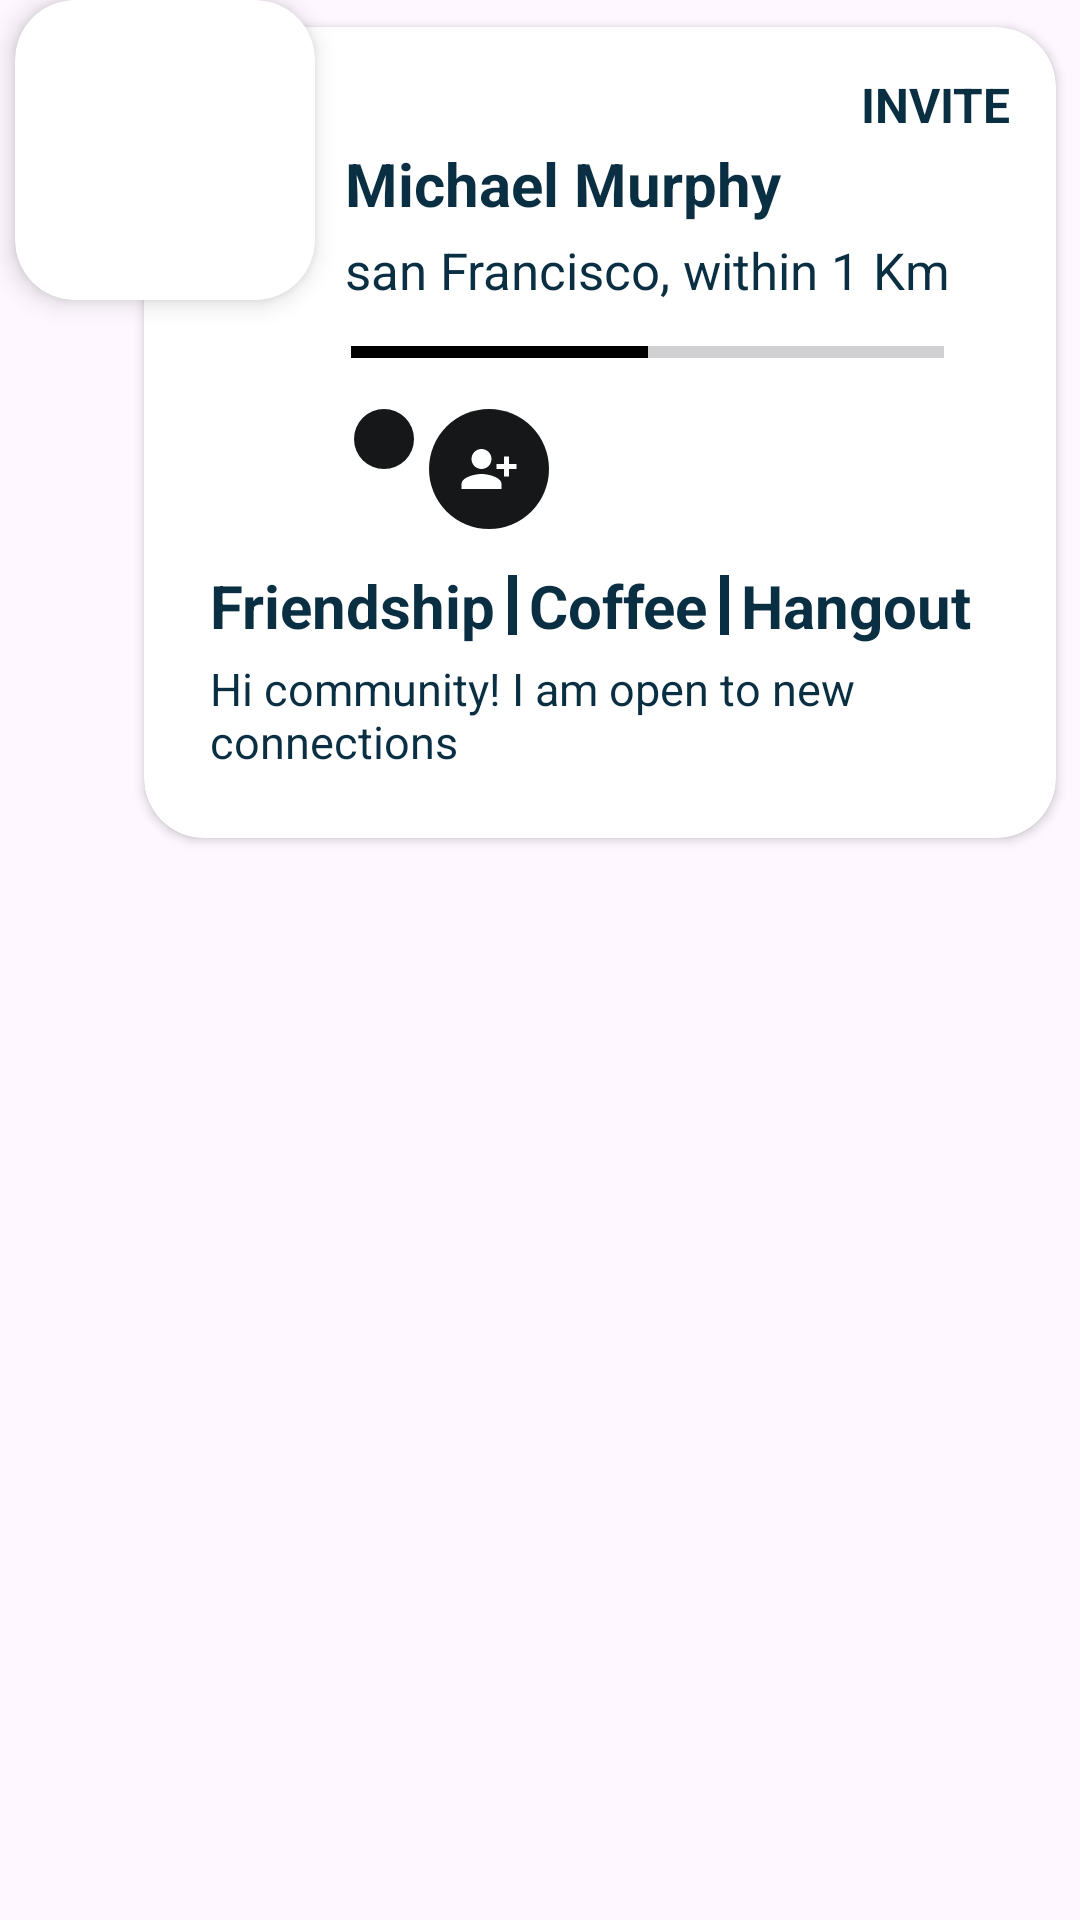

Point at icon controls on the screen. Image size 1080 × 1920, points as (x,y).
person add: (489,469)
